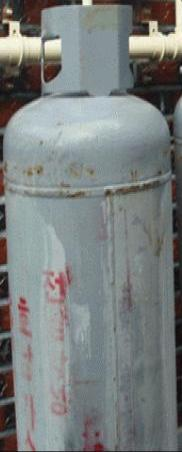cylinder: (1, 1, 182, 452)
